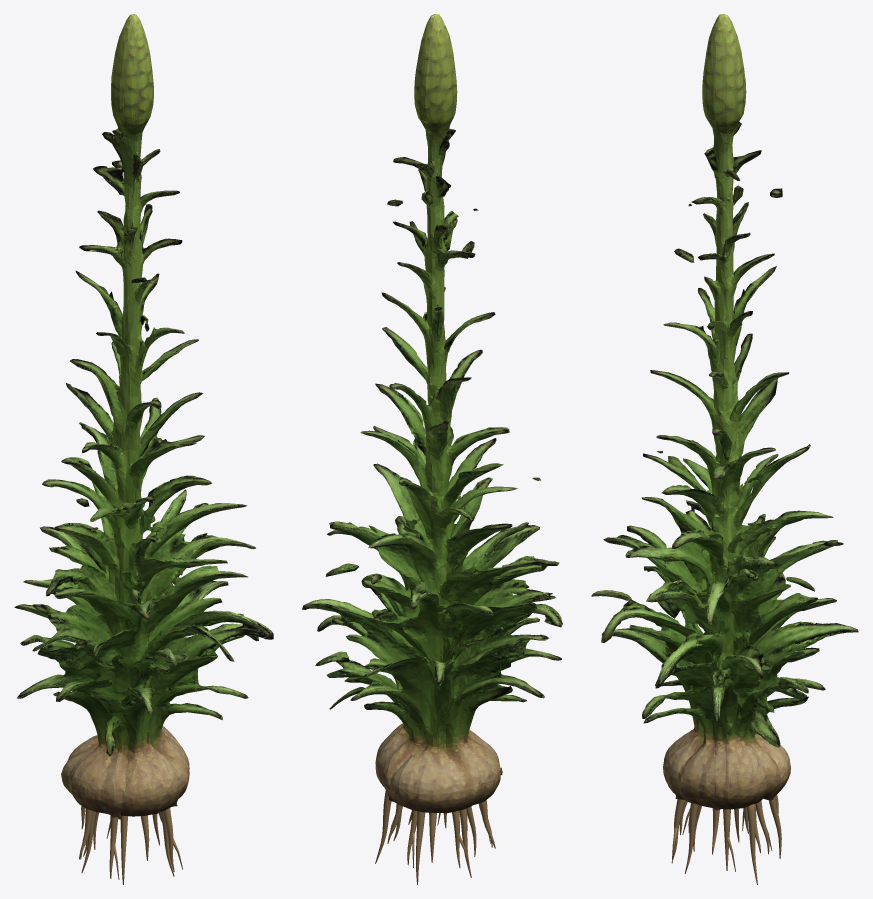
3 renders of one model, left to right at view 1: azimuth 30°, elevation 25°; view 2: azimuth 150°, elevation 25°; view 3: azimuth 270°, elevation 25°, orthographic.
Visible parts, largest first — view 1: geometry_0, Pleuromeia bounded root axes; view 2: geometry_0, Pleuromeia bounded root axes; view 3: geometry_0, Pleuromeia bounded root axes.
Boxes of the visible parts, x1,y1,x2,y2 form: geometry_0: (14,14,273,819); Pleuromeia bounded root axes: (79,806,182,884); geometry_0: (302,14,562,813); Pleuromeia bounded root axes: (375,790,495,884); geometry_0: (591,14,858,810); Pleuromeia bounded root axes: (671,794,781,884).
Size of the model in its own units: 0.2922 by 1.01 by 0.2885.
Materials: 2 (1 with a texture image).
